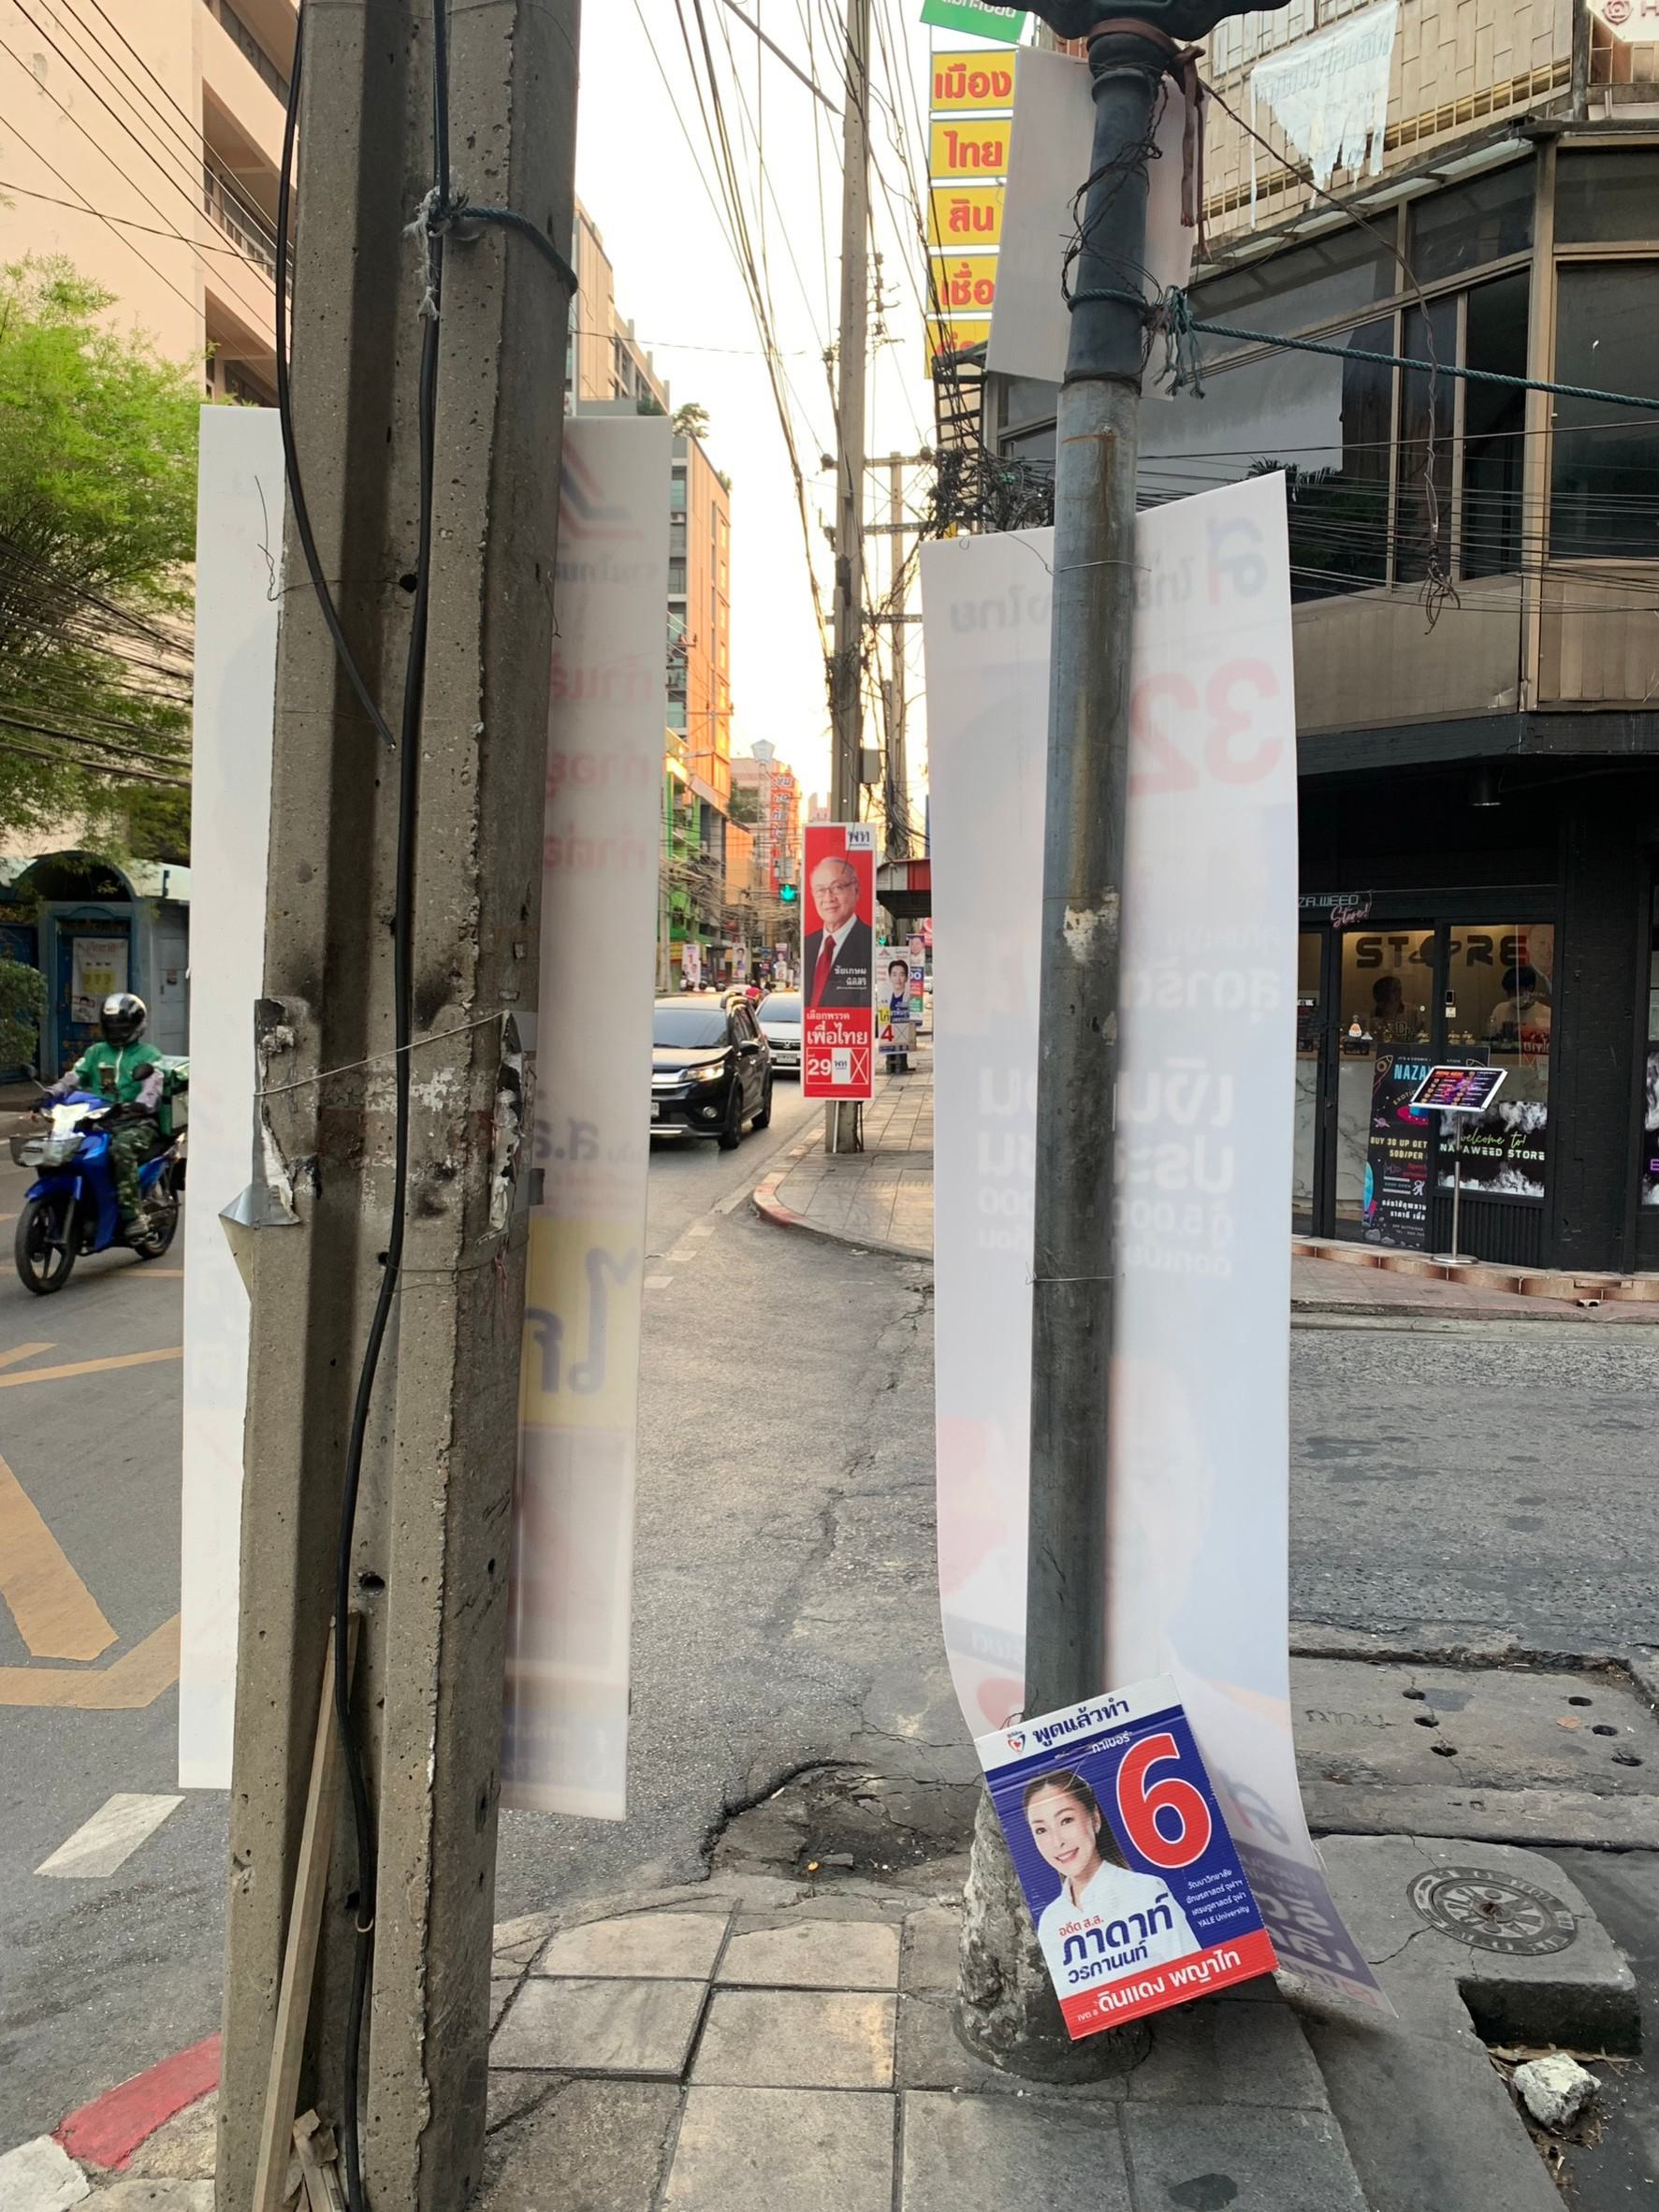Banner: (972, 1676, 1293, 2033), (795, 819, 892, 1123)
